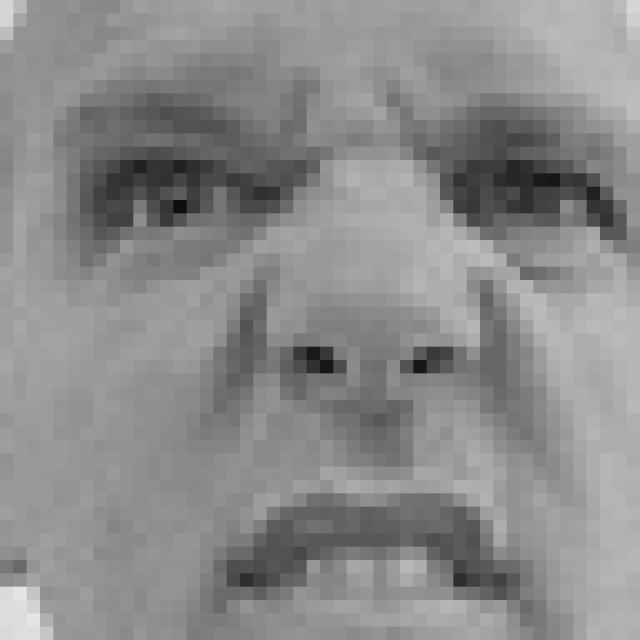disgust: (62, 75, 624, 640)
